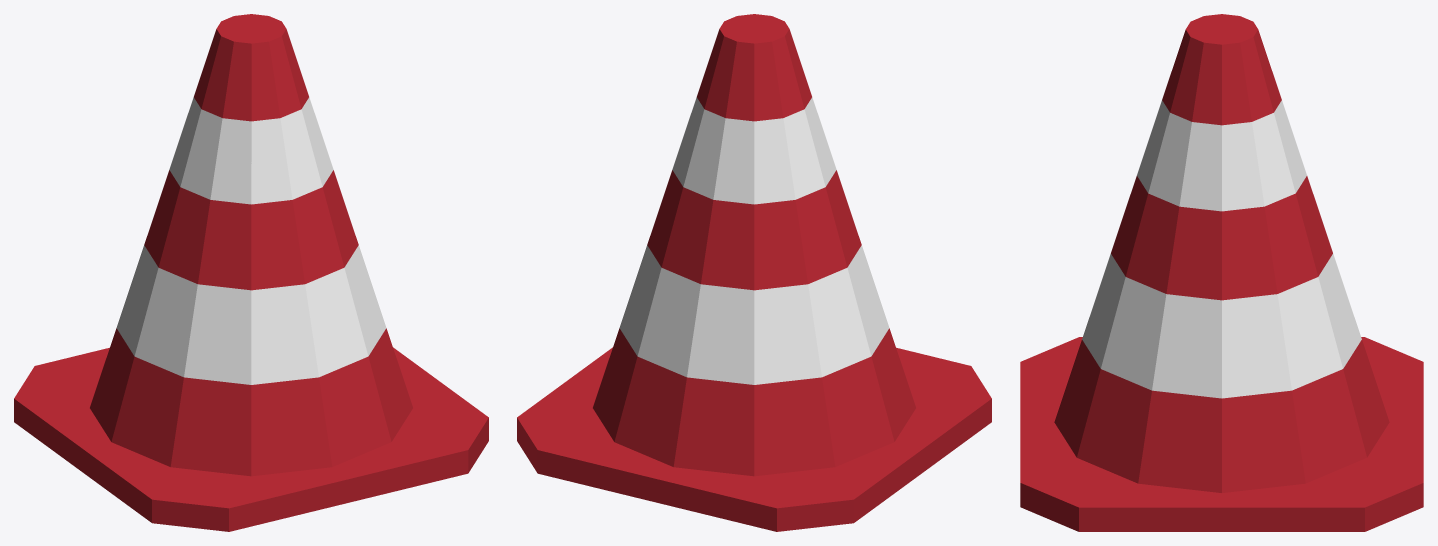
File: road-cone.glb
The picture shows the model from 3 angles, left to right: view 1: azimuth 30°, elevation 25°; view 2: azimuth 150°, elevation 25°; view 3: azimuth 270°, elevation 25°; orthographic projection. The views are drawn at different scales.
Parts seen in each view (by area): view 1: Node; view 2: Node; view 3: Node.
Part boxes in pixels (bbox=[...]): Node: bbox=[14, 14, 488, 531]; Node: bbox=[517, 14, 991, 531]; Node: bbox=[1020, 14, 1423, 531].
Size of the model in its own units: 0.4 by 0.4571 by 0.4.
1 material, 1 textured.
